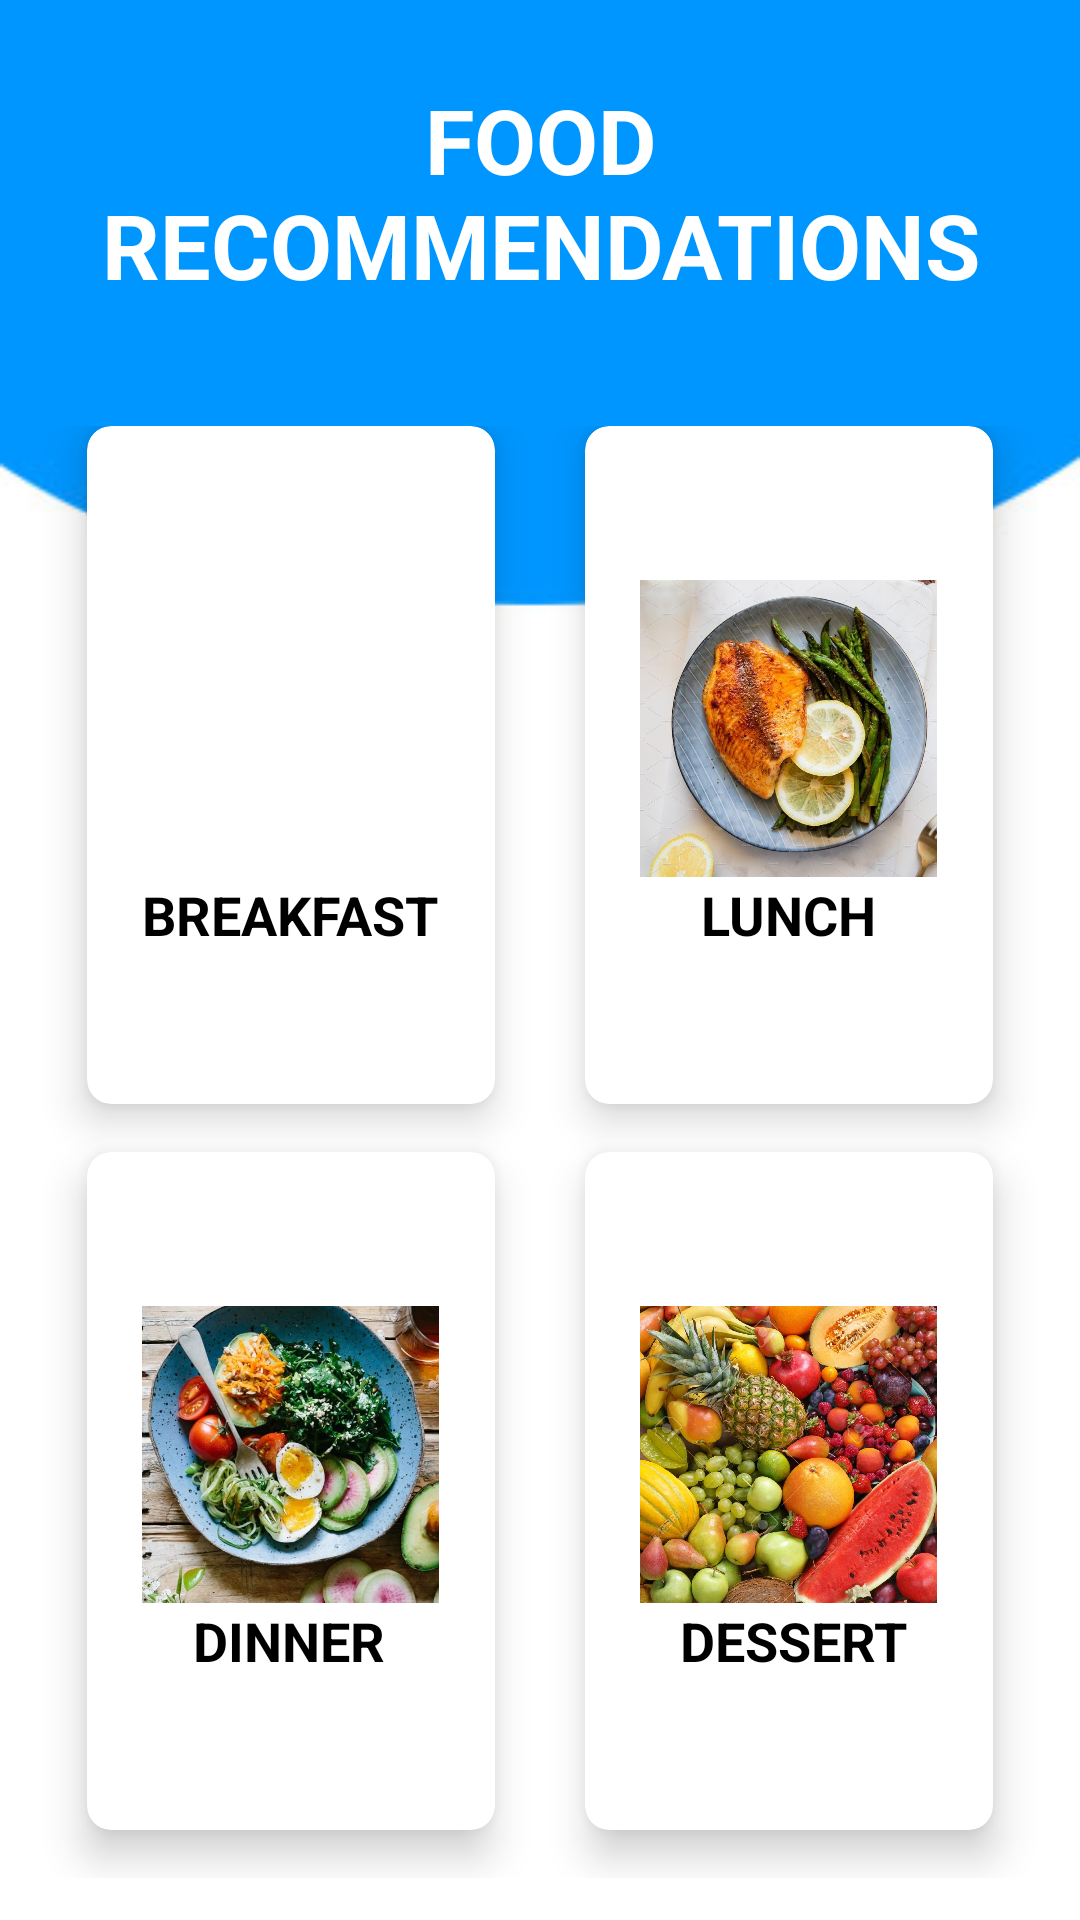

Screen size 1080 × 1920. Icon name, then its box in pixels as (x1, y1, x2, y2):
fruitss: (640, 1306, 937, 1603)
